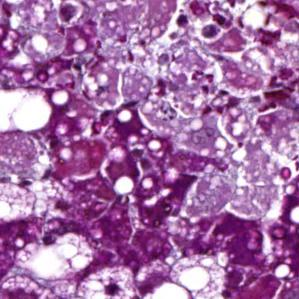ballooning: (10, 227, 95, 281), (73, 263, 146, 299)
